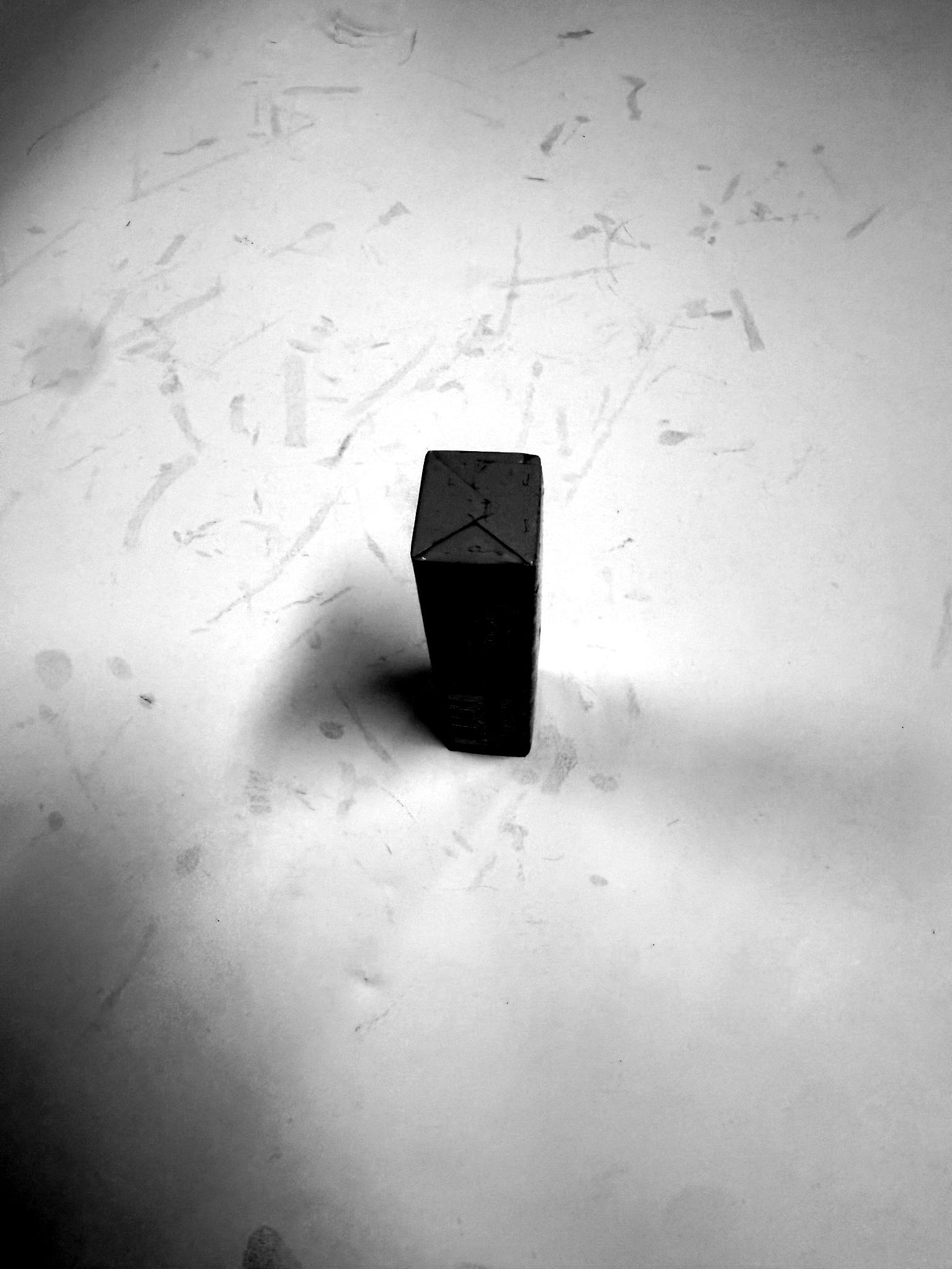gum_yellow: (411, 447, 538, 755)
